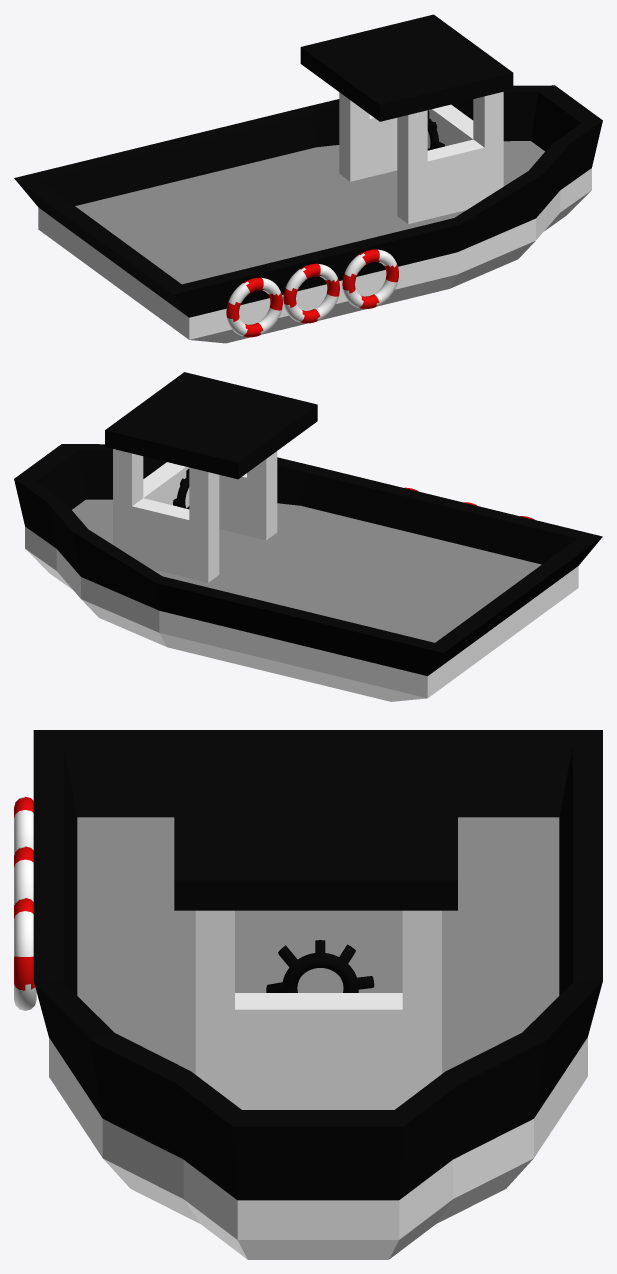
The model's file is boat1.fbx.
3 renders of one model, top to bottom at view 1: azimuth 30°, elevation 25°; view 2: azimuth 150°, elevation 25°; view 3: azimuth 270°, elevation 25°, orthographic. The views are drawn at different scales.
Visible parts, largest first — view 1: Cube; view 2: Cube; view 3: Cube.
Part boxes in pixels (x1=…): Cube: x1=14, y1=14, x2=602, y2=343; Cube: x1=14, y1=372, x2=602, y2=701; Cube: x1=14, y1=730, x2=602, y2=1259.
Size of the model in its own units: 1896 by 727 by 1115.
